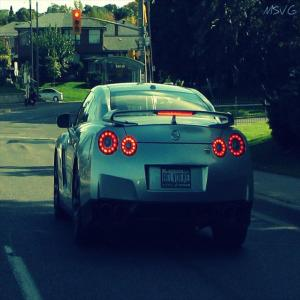Vehicle-registration-plate: (160, 168, 200, 195)
